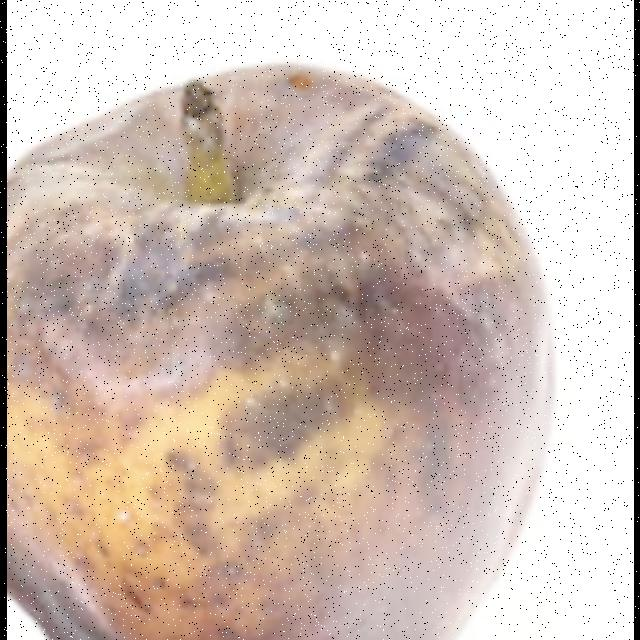Apel Tidak Segar: (6, 59, 559, 640)
